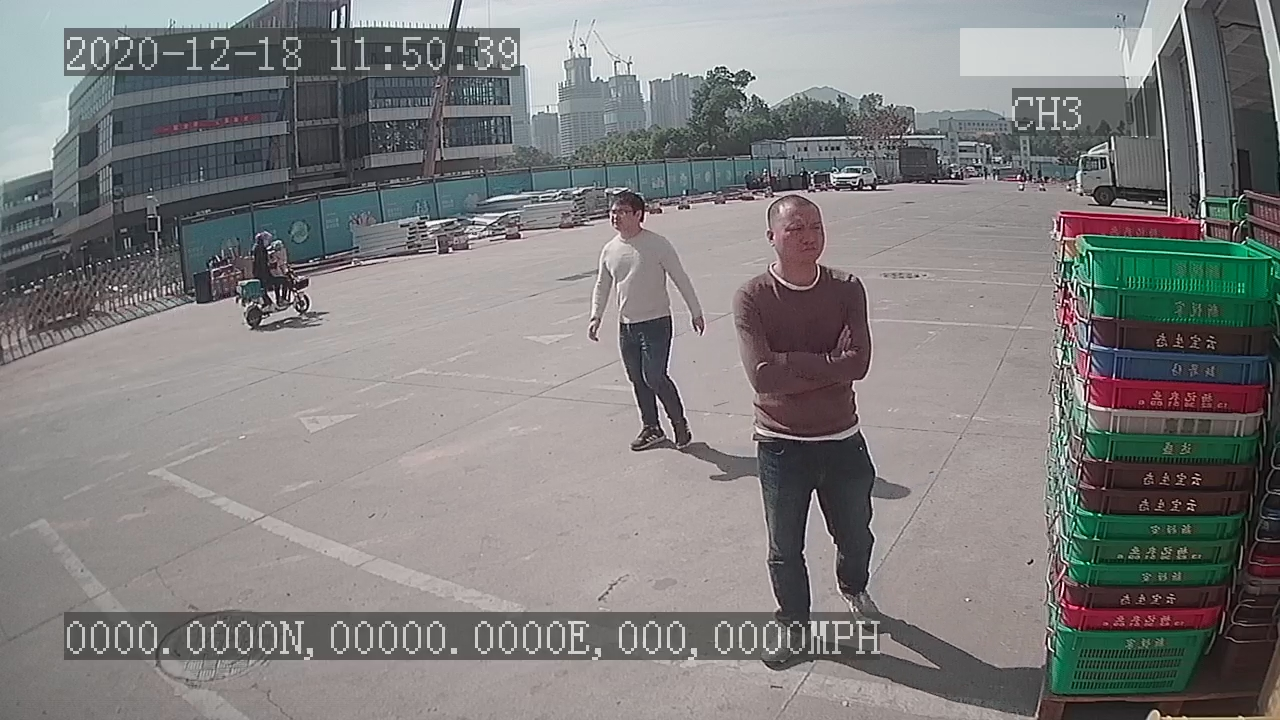person: (579, 188, 711, 460)
